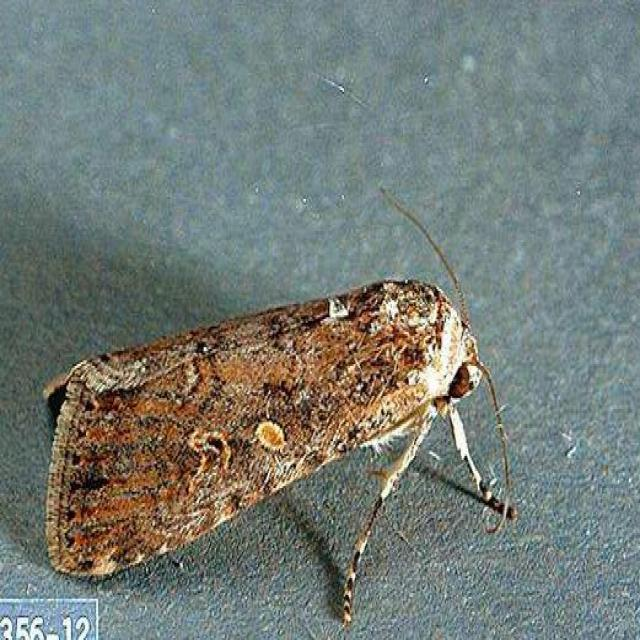BeetArmyWorm-Adult-: (29, 266, 508, 622)
